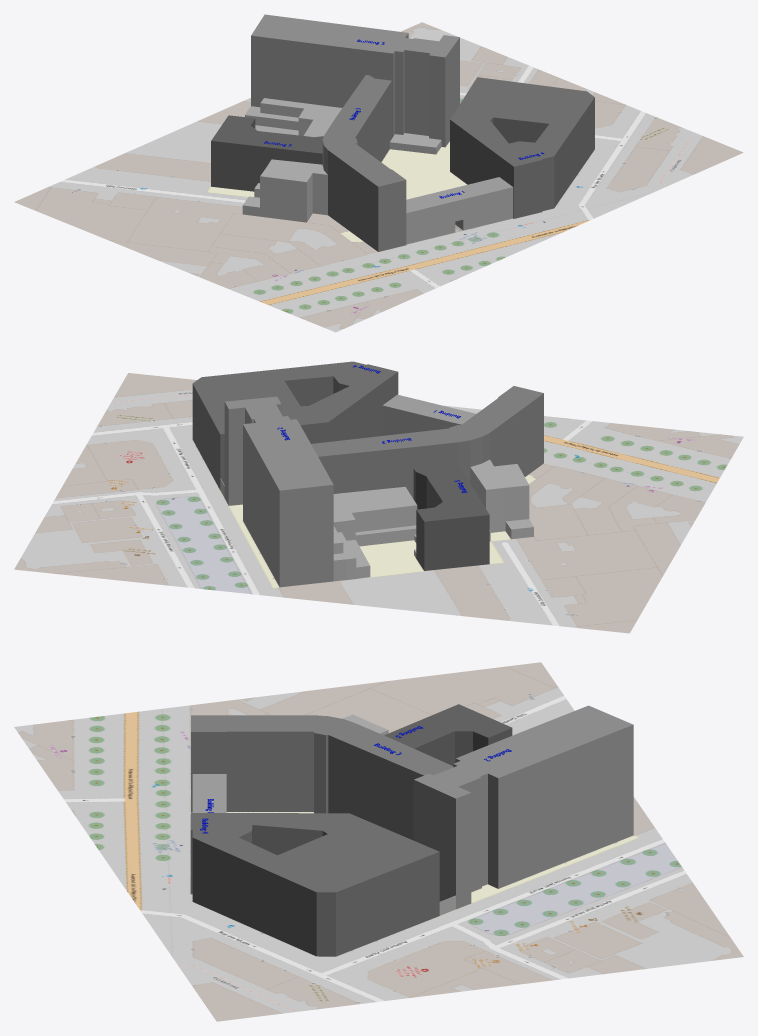
Rendered from Orientation_Plan_Republique.glb.
The picture shows the model from 3 angles, top to bottom: view 1: azimuth 30°, elevation 25°; view 2: azimuth 150°, elevation 25°; view 3: azimuth 270°, elevation 25°; orthographic projection. The views are drawn at different scales.
Parts seen in each view (by area): view 1: Plan_PNG, Bat_2, Bat_4_Haut, Bat_3, Bat_3.001, Bat_1, Bat_5_bis, Bat_4_Bas, Bat_5.001, Plane.001; view 2: Plan_PNG, Bat_2, Bat_3, Bat_4_Haut, Bat_3.001, Bat_5.001, Bat_5_bis, Bat_1, Bat_4_Bas; view 3: Plan_PNG, Bat_2, Bat_3, Bat_4_Haut, Bat_4_Bas, Bat_3.001, Bat_1.
Boxes of the visible parts, box(x1,y1,x2,y2) form: Plan_PNG: box(14, 22, 743, 332); Bat_2: box(251, 14, 459, 147); Bat_4_Haut: box(450, 77, 594, 192); Bat_3: box(322, 75, 406, 251); Bat_3.001: box(211, 115, 323, 191); Bat_1: box(406, 177, 513, 244); Bat_5_bis: box(242, 159, 327, 222); Bat_4_Bas: box(450, 123, 594, 218); Bat_5.001: box(245, 98, 342, 137); Plane.001: box(389, 133, 441, 154); Plan_PNG: box(14, 373, 743, 633); Bat_2: box(224, 396, 333, 587); Bat_3: box(311, 386, 543, 498); Bat_4_Haut: box(192, 361, 398, 461); Bat_3.001: box(413, 463, 489, 570); Bat_5.001: box(333, 486, 417, 581); Bat_5_bis: box(470, 459, 533, 541); Bat_1: box(382, 394, 475, 435); Bat_4_Bas: box(192, 411, 382, 489); Plan_PNG: box(14, 662, 743, 1021); Bat_2: box(413, 705, 633, 909); Bat_3: box(191, 715, 453, 840); Bat_4_Haut: box(190, 813, 439, 923); Bat_4_Bas: box(190, 861, 439, 956); Bat_3.001: box(384, 704, 512, 765); Bat_1: box(192, 774, 226, 812).
Bounding box in the file's own units: 258 × 37.12 × 221.
8 materials, 1 textured.
